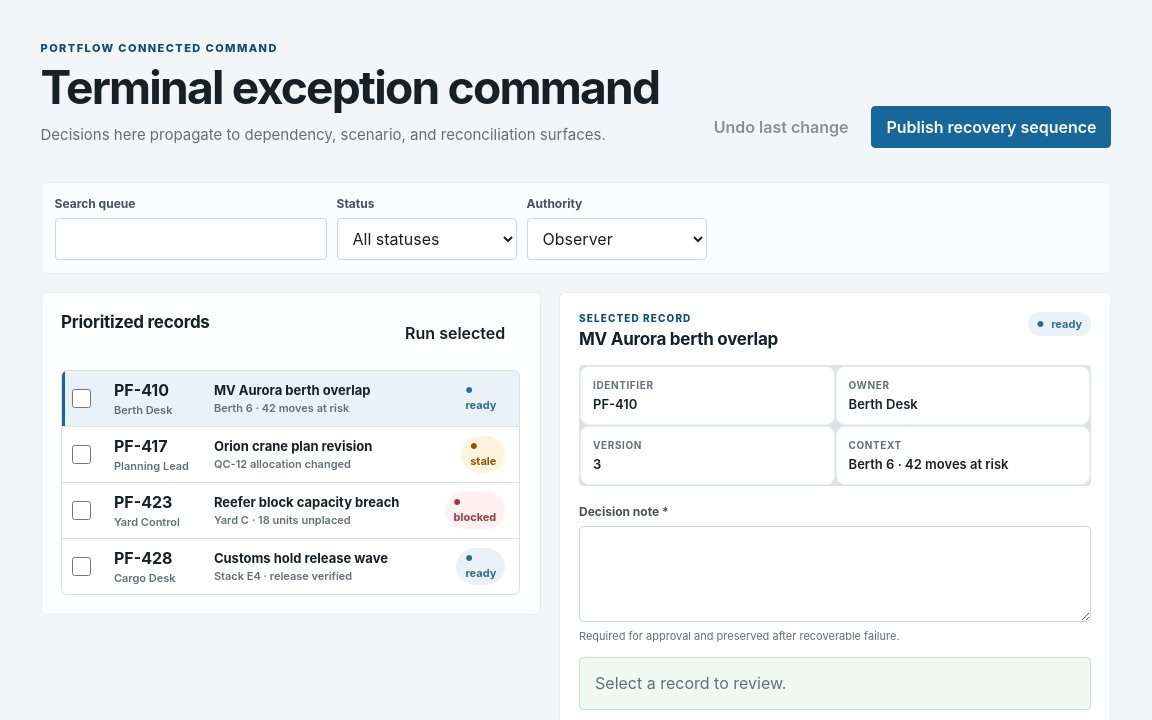
Terminal exception command › filters the queue and offers recovery from an empty result
This screenshot has width=1152, height=720.
Type "not-present" into the field labelled "Search queue" at (190, 239), box [54, 218, 326, 260]
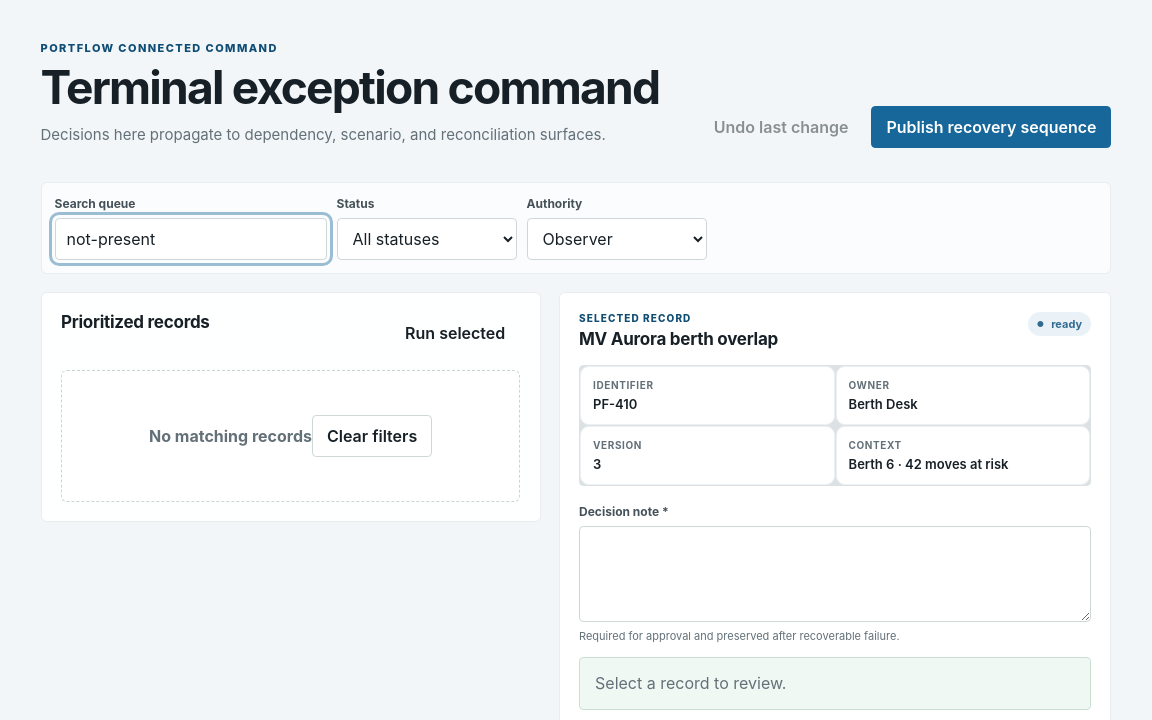
Result: the text "No matching records" is shown at [149, 426, 312, 446]
Click the button "Clear filters" at (372, 436), box [312, 415, 432, 457]
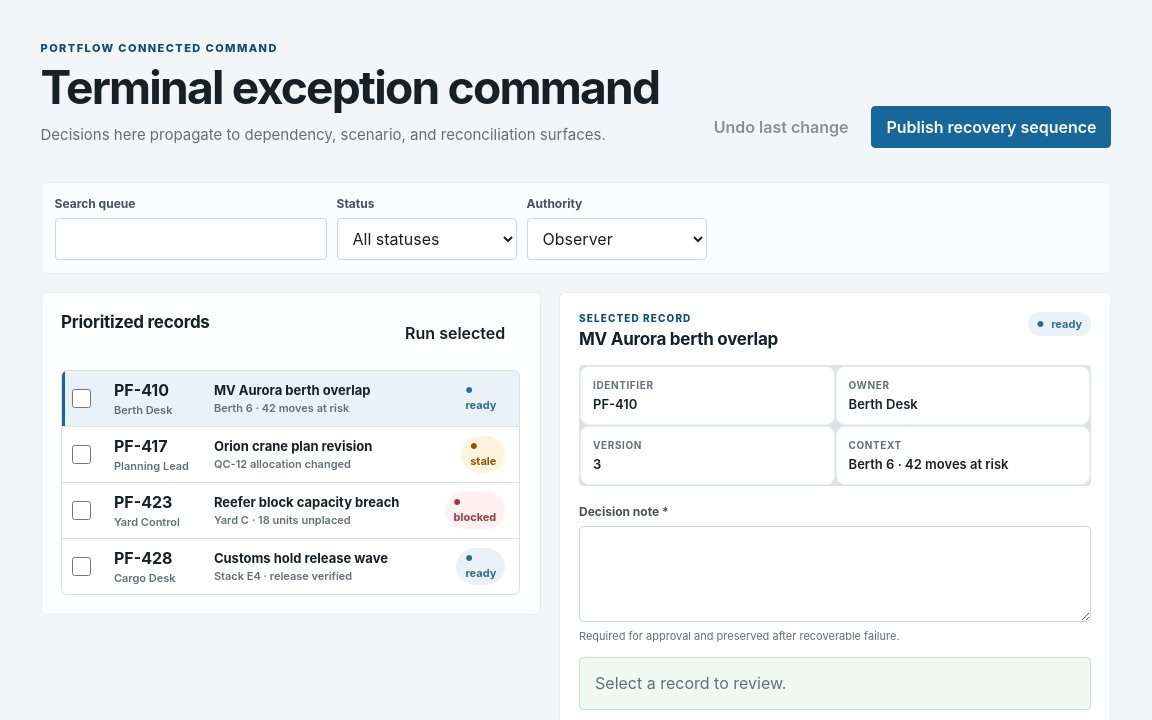
Result: the text "MV Aurora berth overlap" is shown 2 times at [214, 382, 371, 398]; [579, 329, 778, 349]
